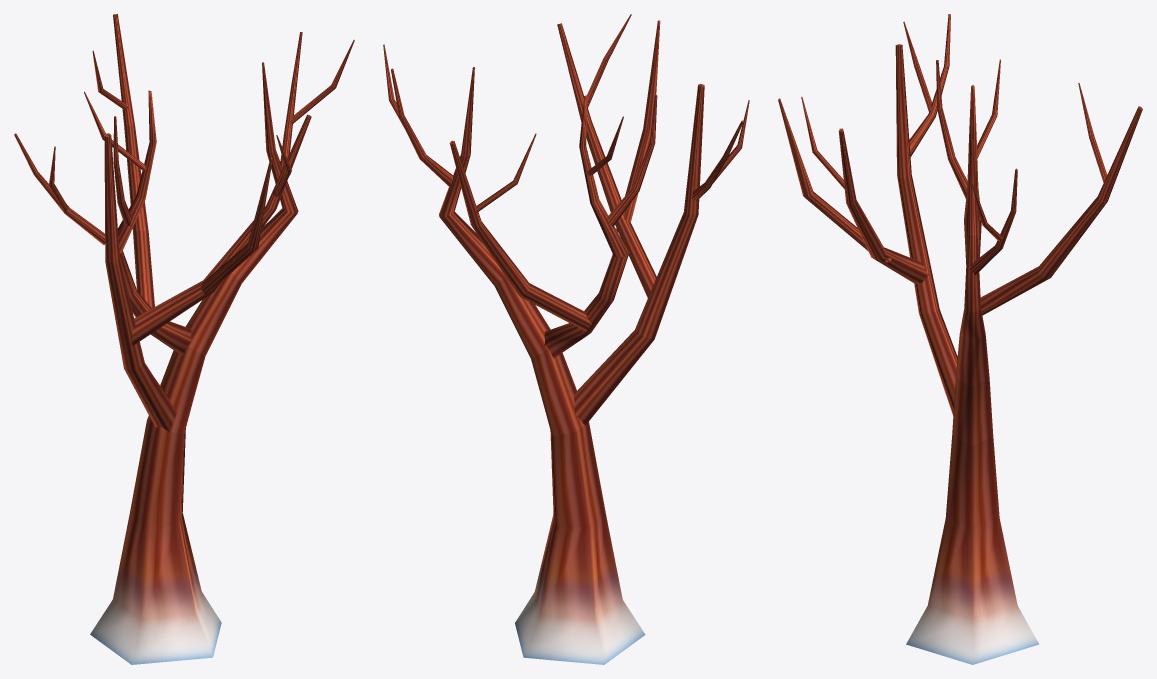
Rendered from Object_Tree1.FBX.
The picture shows the model from 3 angles, left to right: view 1: azimuth 30°, elevation 25°; view 2: azimuth 150°, elevation 25°; view 3: azimuth 270°, elevation 25°; orthographic projection.
Parts seen in each view (by area): view 1: Tree; view 2: Tree; view 3: Tree.
Boxes of the visible parts, x1,y1,x2,y2 form: Tree: (14, 14, 354, 664); Tree: (383, 14, 749, 664); Tree: (778, 14, 1142, 664).
Size of the model in its own units: 72.51 by 110 by 65.73.
